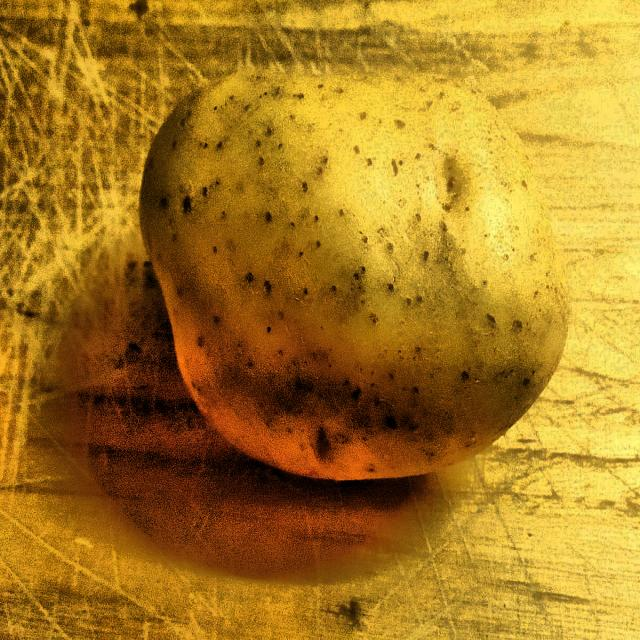potato: (75, 56, 614, 588)
